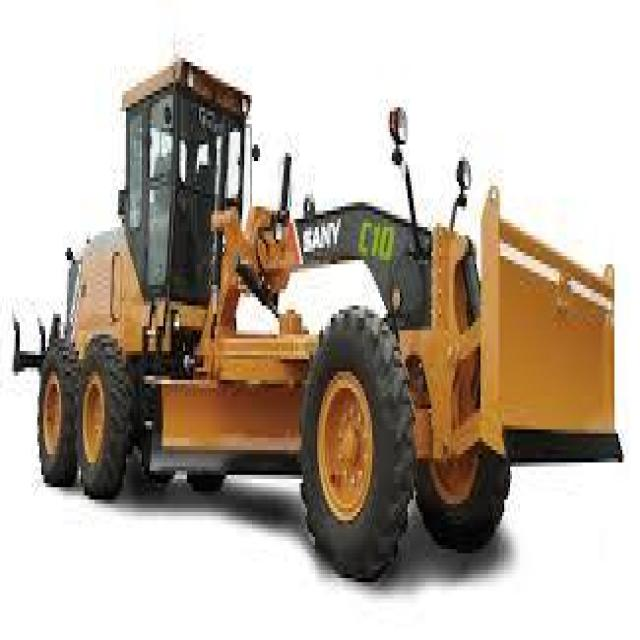buldozerpayloadergrader: (18, 37, 620, 582)
